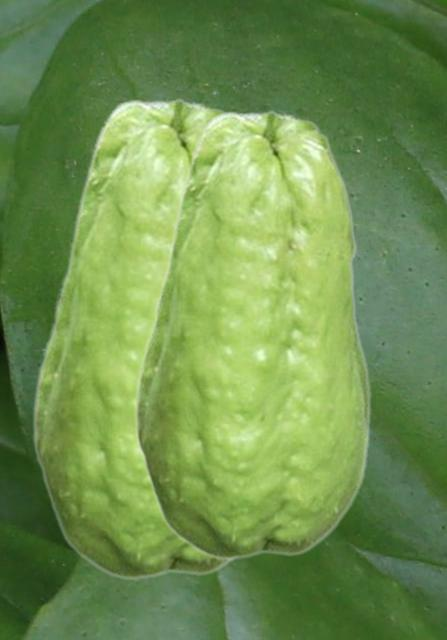sayote: (133, 109, 372, 561), (31, 97, 233, 581)
